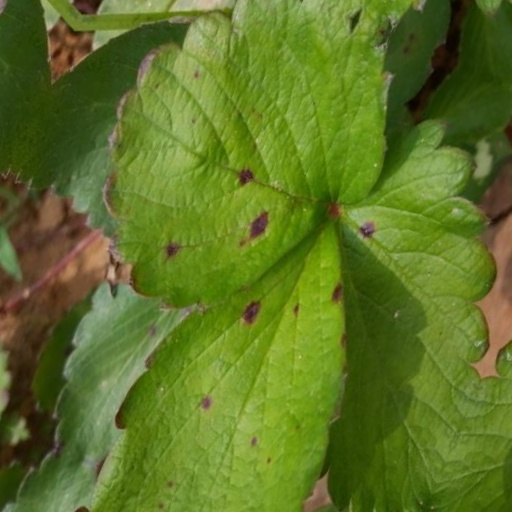Leaf Spot: (68, 0, 338, 343), (309, 55, 511, 464), (188, 187, 407, 511), (117, 324, 220, 511), (403, 435, 511, 511), (0, 423, 88, 511), (93, 346, 131, 486), (288, 0, 347, 71)
